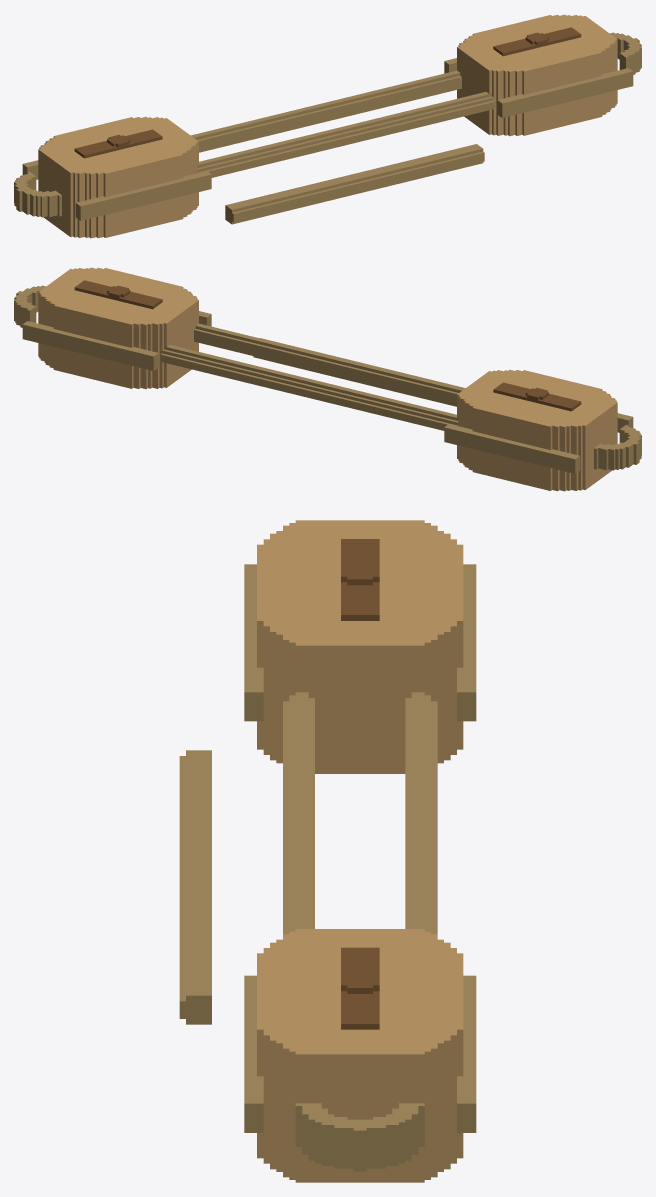
File: block_and_tackle_wood.glb
3 views of the same model, one above another, from view 1: azimuth 30°, elevation 25°; view 2: azimuth 150°, elevation 25°; view 3: azimuth 270°, elevation 25° (orthographic). The views are drawn at different scales.
Parts seen in each view (by area): view 1: block_and_tackle_wood:compound; view 2: block_and_tackle_wood:compound; view 3: block_and_tackle_wood:compound.
Part boxes in pixels (x1=…): block_and_tackle_wood:compound: x1=14, y1=14, x2=641, y2=238; block_and_tackle_wood:compound: x1=14, y1=267, x2=641, y2=491; block_and_tackle_wood:compound: x1=179, y1=520, x2=476, y2=1182.
Size of the model in its own units: 0.444 by 0.048 by 0.092.
